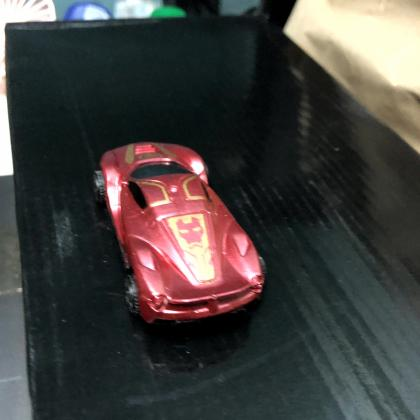Car: (100, 143, 266, 326)
